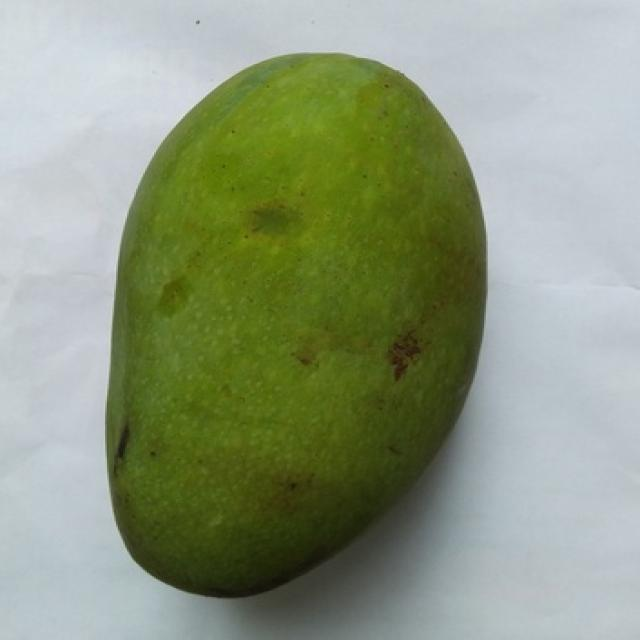Mango: (107, 55, 484, 595)
